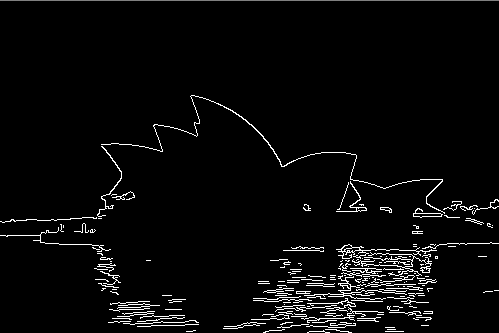opera house: (76, 77, 449, 233)
